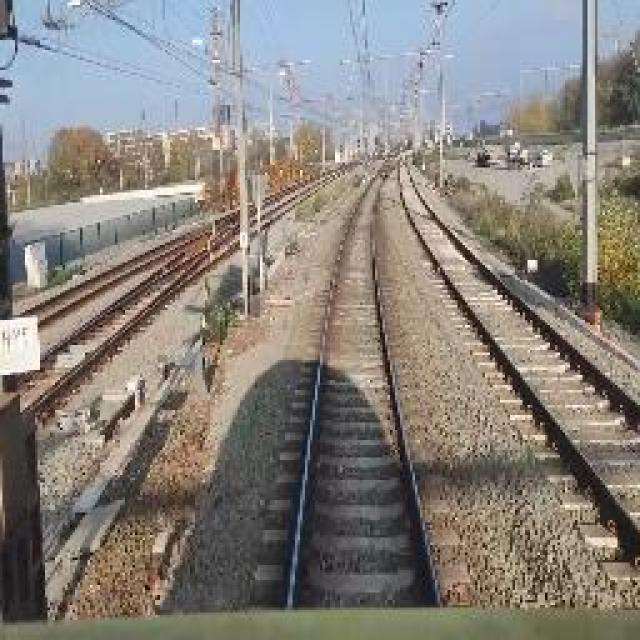rail: (242, 152, 471, 611)
